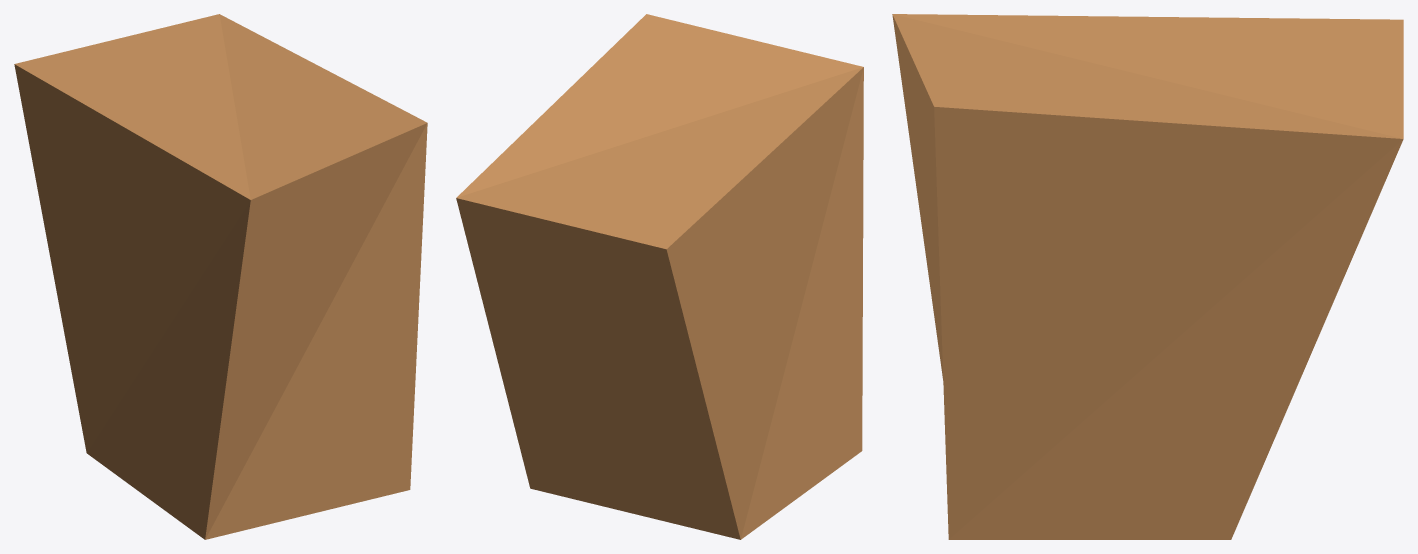
File: warped-cube.glb
3 views of the same model, side by side, from view 1: azimuth 30°, elevation 25°; view 2: azimuth 150°, elevation 25°; view 3: azimuth 270°, elevation 25° (orthographic). The views are drawn at different scales.
Parts seen in each view (by area): view 1: Cube; view 2: Cube; view 3: Cube.
Boxes of the visible parts, x1=… form: Cube: x1=14, y1=14, x2=427, y2=539; Cube: x1=456, y1=14, x2=863, y2=539; Cube: x1=892, y1=14, x2=1403, y2=539.
Size of the model in its own units: 1.05 by 1.72 by 1.81.
